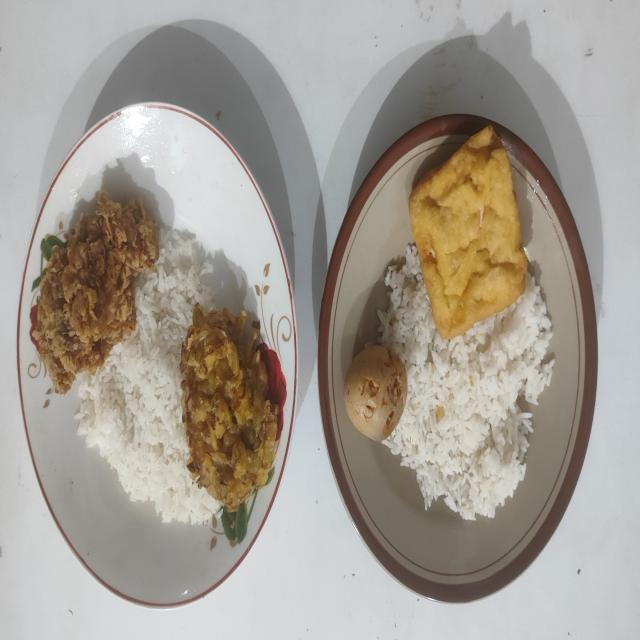nasi_putih: (378, 245, 554, 520), (75, 232, 220, 524)
tahu_goreng: (409, 126, 527, 338)
